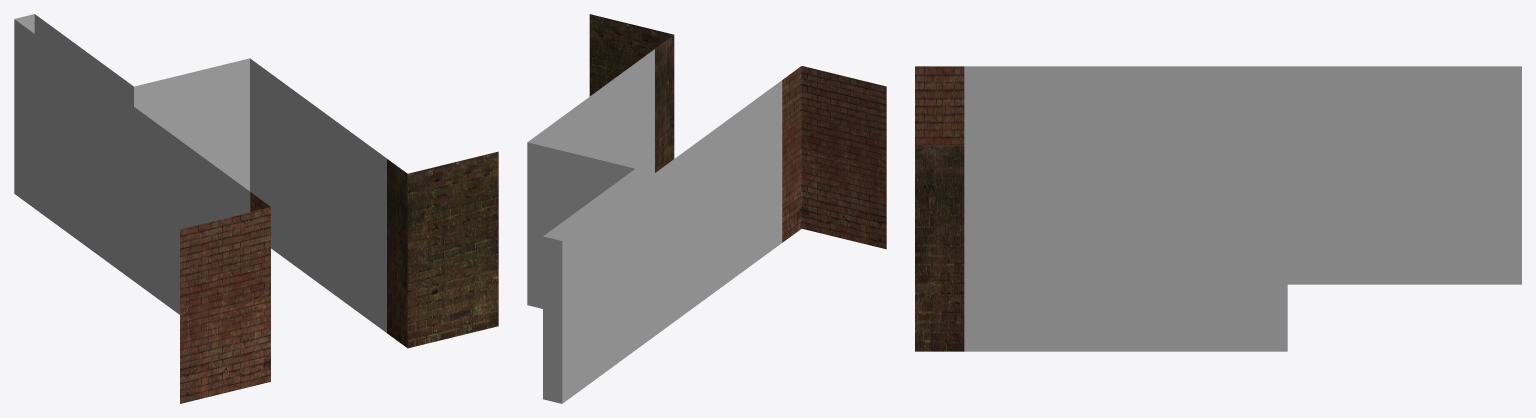
File: Alley_01_Top.fbx
3 renders of one model, left to right at view 1: azimuth 30°, elevation 25°; view 2: azimuth 150°, elevation 25°; view 3: azimuth 270°, elevation 25°, orthographic. The views are drawn at different scales.
Visible parts, largest first — view 1: Alley_01_Top; view 2: Alley_01_Top; view 3: Alley_01_Top.
Boxes of the visible parts, x1,y1,x2,y2 form: Alley_01_Top: (14, 14, 498, 403); Alley_01_Top: (527, 14, 886, 403); Alley_01_Top: (915, 66, 1521, 351).
Size of the model in its own units: 700 by 367 by 977.
